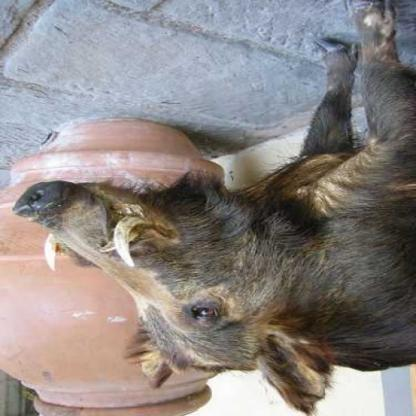boar: (13, 18, 415, 415)
